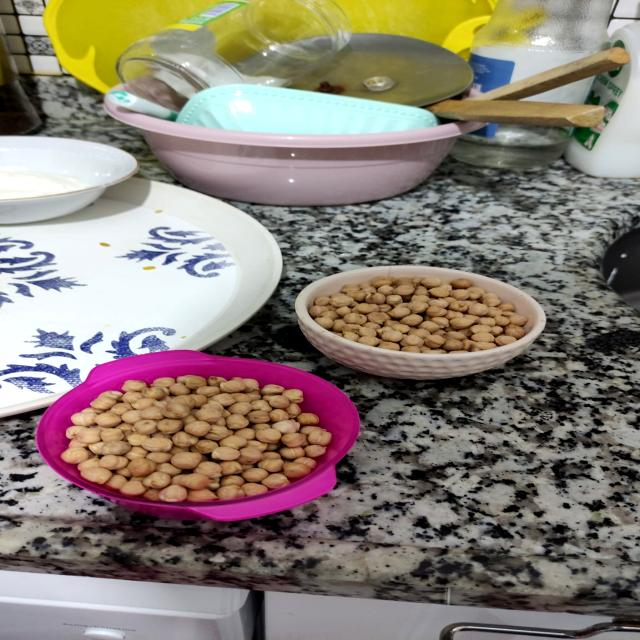chickpeas: (24, 351, 363, 525), (290, 260, 560, 384)
